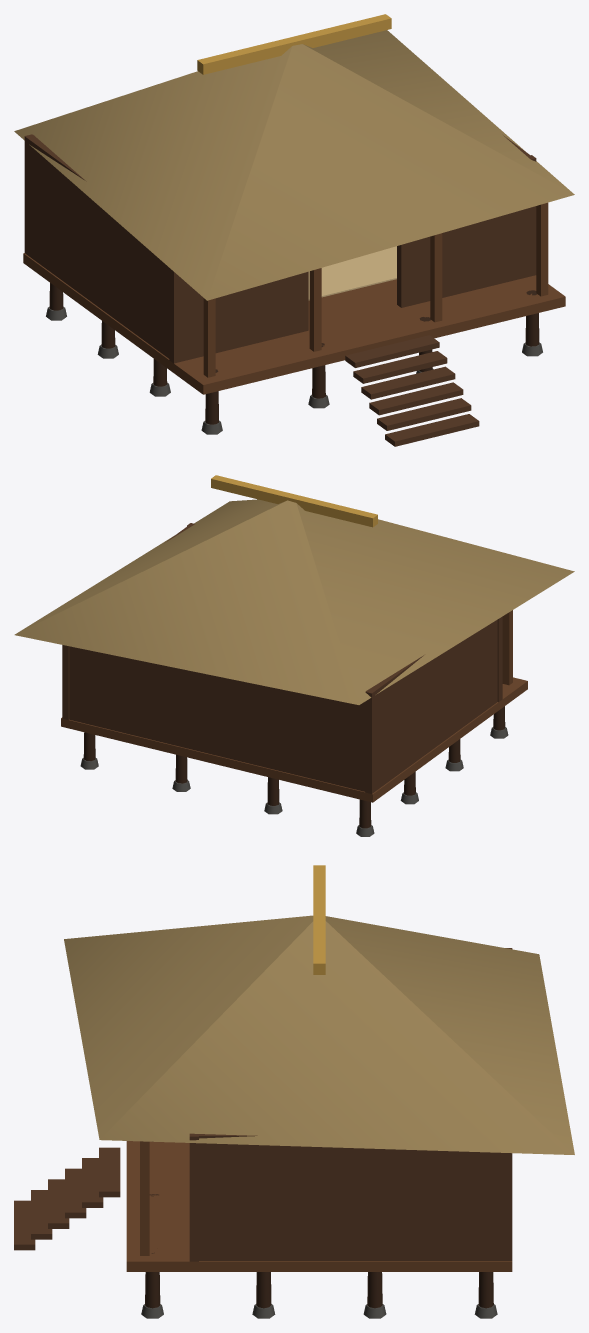
Rendered from boyang-beasa-mandar.glb.
3 renders of one model, top to bottom at view 1: azimuth 30°, elevation 25°; view 2: azimuth 150°, elevation 25°; view 3: azimuth 270°, elevation 25°, orthographic. The views are drawn at different scales.
Visible parts, largest first — view 1: ROOF_SYSTEM, WALL_SYSTEM, FLOOR_SYSTEM, ENTRANCE_STAIRS, STRUCTURAL_COLUMNS, INTERIOR_MAT, FOUNDATION_SYSTEM; view 2: ROOF_SYSTEM, WALL_SYSTEM, FLOOR_SYSTEM, STRUCTURAL_COLUMNS, FOUNDATION_SYSTEM; view 3: ROOF_SYSTEM, WALL_SYSTEM, FLOOR_SYSTEM, ENTRANCE_STAIRS, STRUCTURAL_COLUMNS, FOUNDATION_SYSTEM.
Part boxes in pixels (<box>): ROOF_SYSTEM: <box>14,14,574,300</box>; WALL_SYSTEM: <box>24,134,536,363</box>; FLOOR_SYSTEM: <box>23,253,565,394</box>; ENTRANCE_STAIRS: <box>345,335,479,446</box>; STRUCTURAL_COLUMNS: <box>49,202,548,424</box>; INTERIOR_MAT: <box>308,246,396,300</box>; FOUNDATION_SYSTEM: <box>46,306,542,434</box>; ROOF_SYSTEM: <box>14,475,574,704</box>; WALL_SYSTEM: <box>62,523,502,793</box>; FLOOR_SYSTEM: <box>61,677,527,802</box>; STRUCTURAL_COLUMNS: <box>83,610,512,828</box>; FOUNDATION_SYSTEM: <box>80,727,508,836</box>; ROOF_SYSTEM: <box>64,865,574,1154</box>; WALL_SYSTEM: <box>189,948,512,1261</box>; FLOOR_SYSTEM: <box>126,1141,512,1271</box>; ENTRANCE_STAIRS: <box>14,1147,120,1250</box>; STRUCTURAL_COLUMNS: <box>140,1141,493,1308</box>; FOUNDATION_SYSTEM: <box>141,1304,497,1318</box>.
Size of what is drawn, in the model's own units: 9.81 by 6.7 by 10.76.
